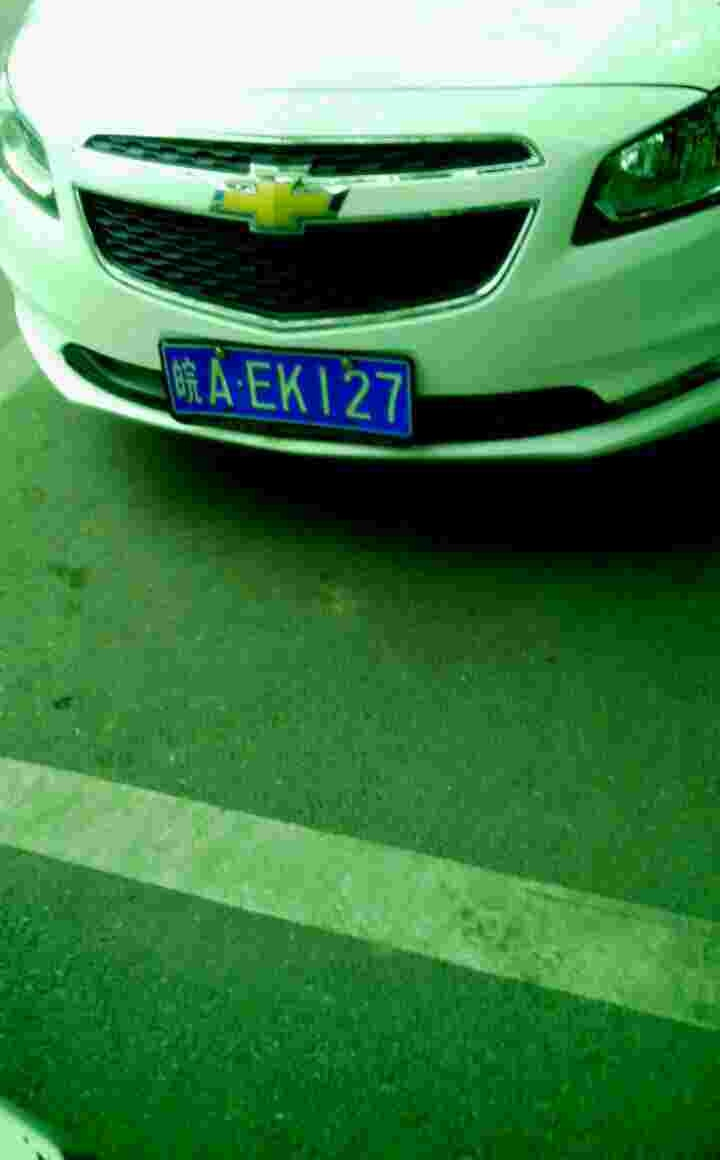license_plate: (166, 343, 417, 443)
